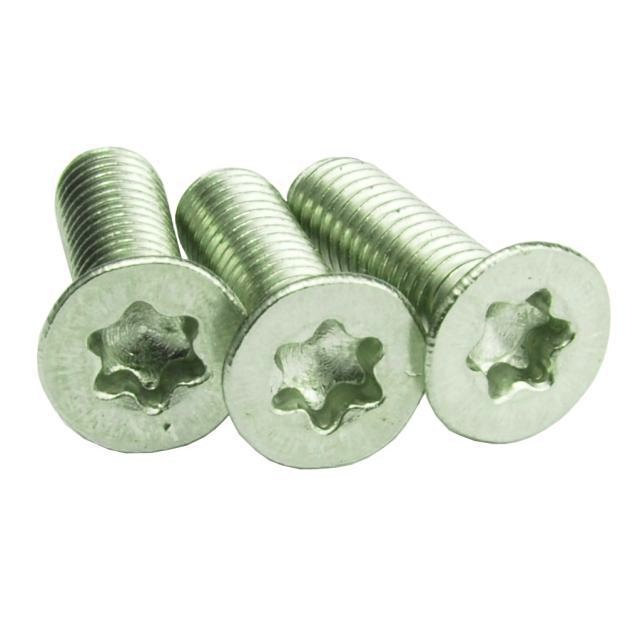torx: (86, 300, 214, 419), (268, 317, 388, 437), (467, 289, 578, 406)
